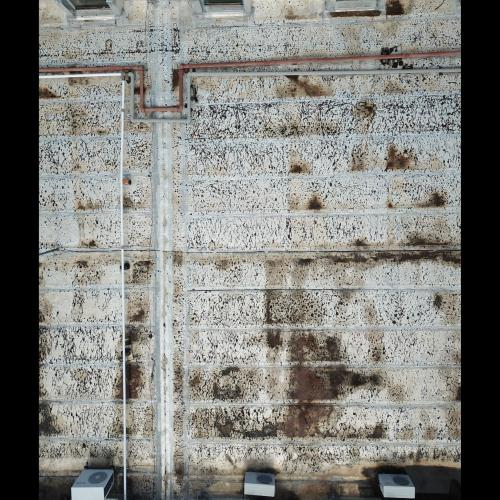conde: (71, 466, 118, 500), (242, 469, 279, 500), (378, 472, 417, 500)
